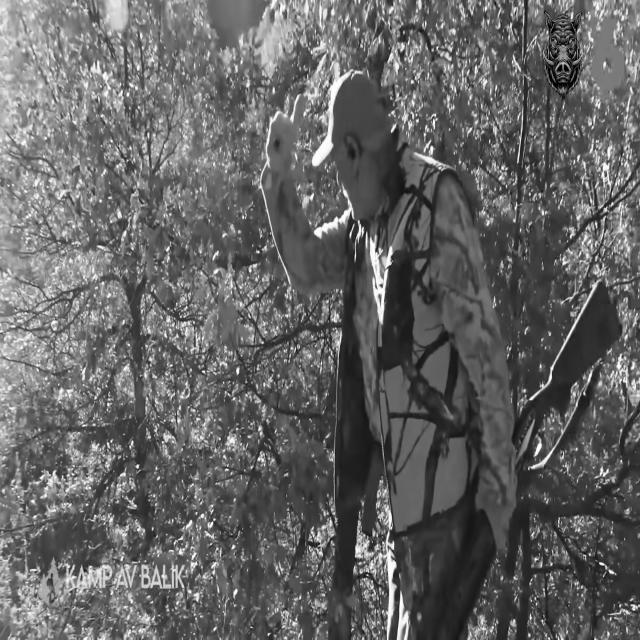boar: (543, 11, 584, 96)
monkey: (261, 70, 515, 637)
